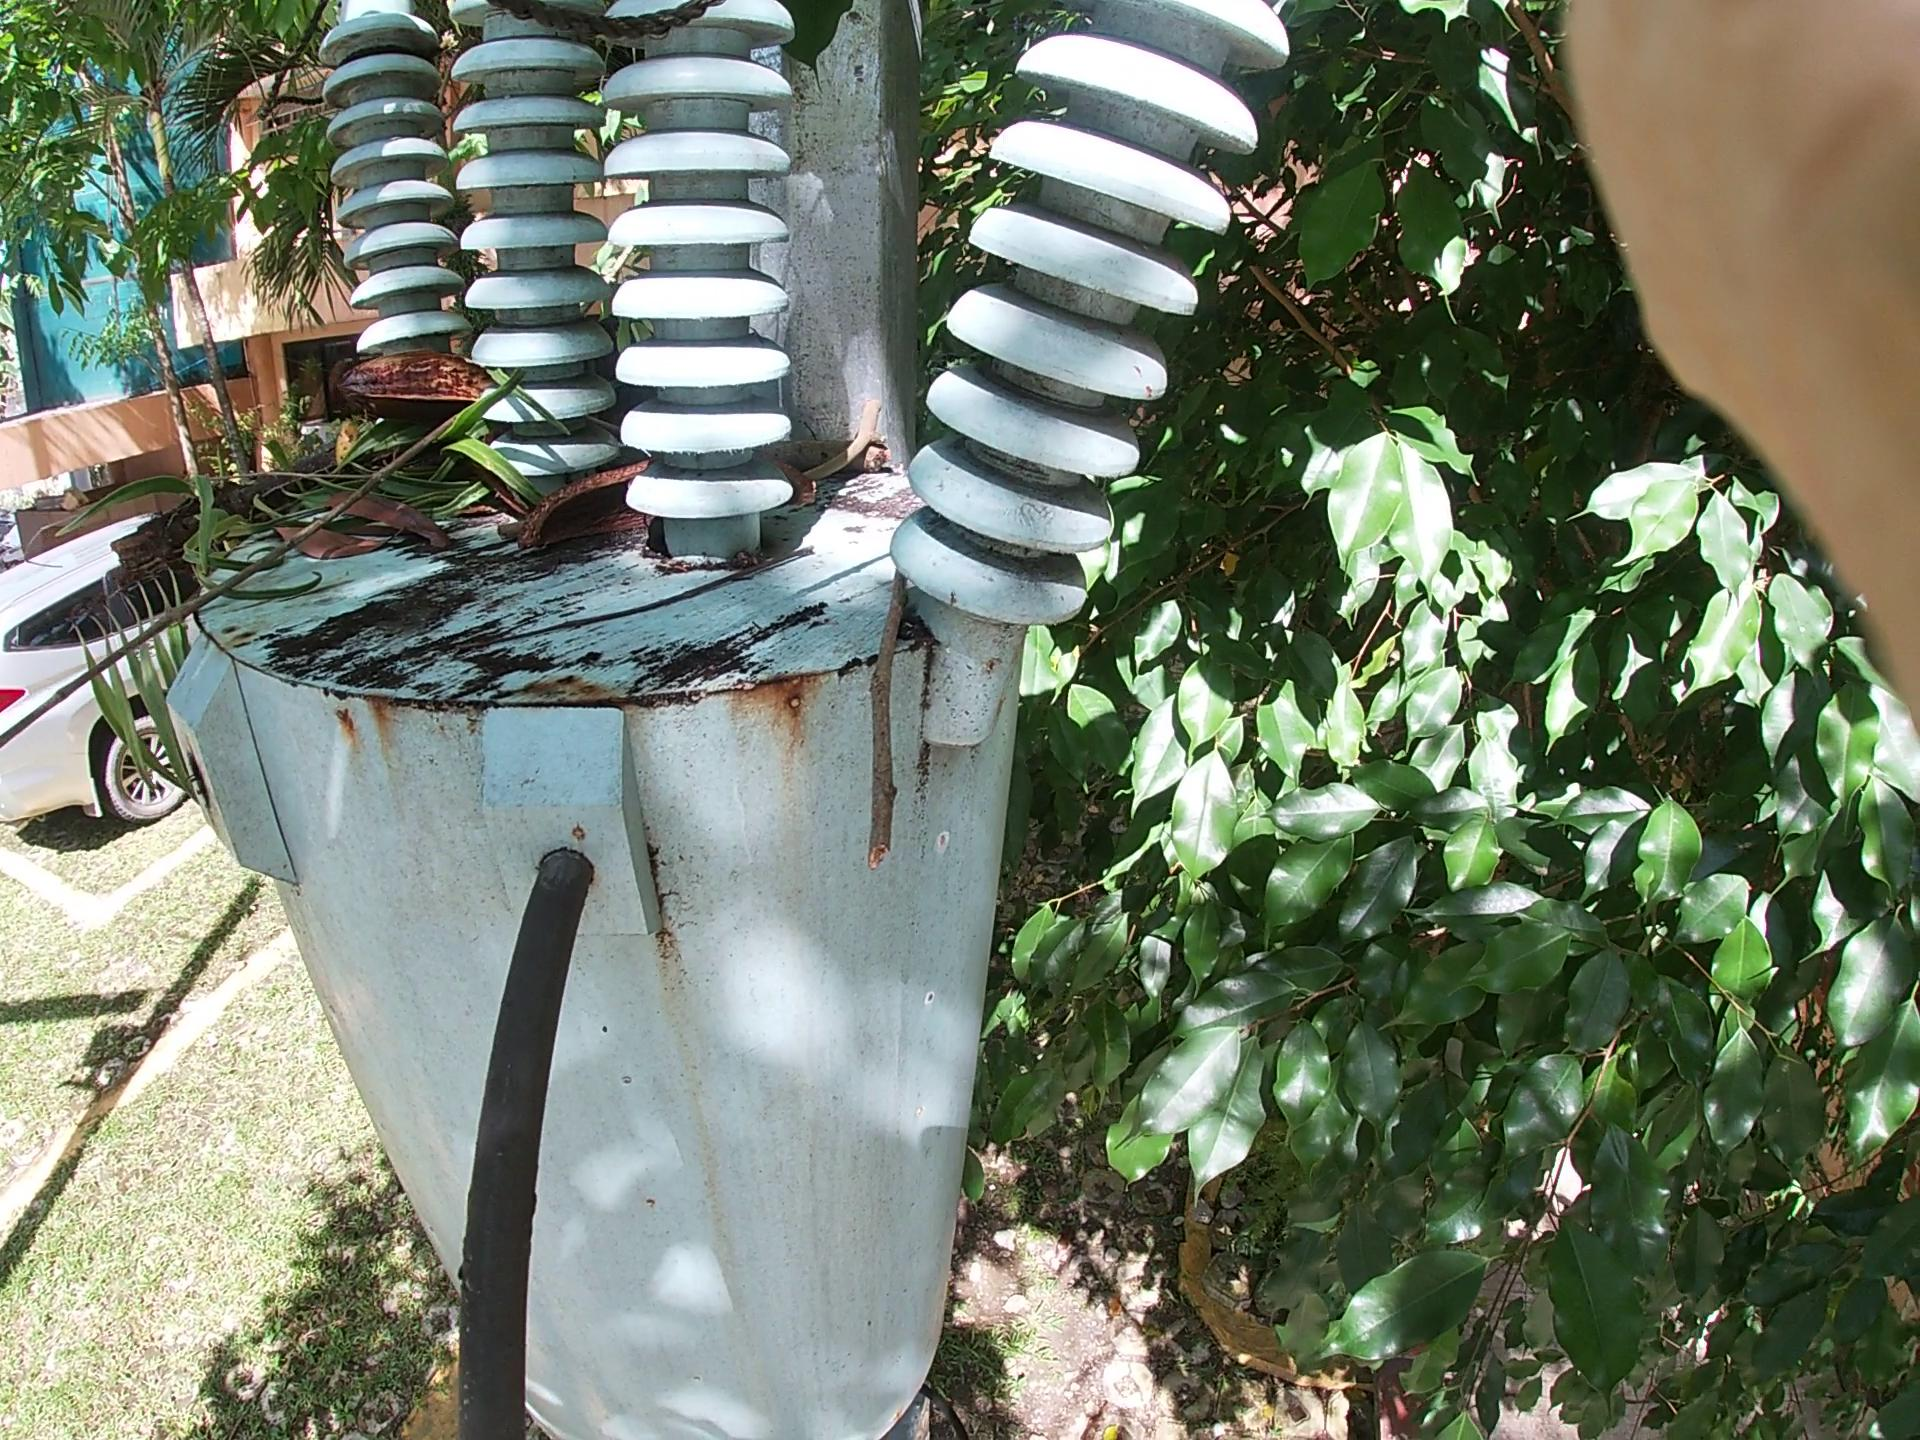branch with leaves: (132, 182, 621, 637)
mahogany fruit: (310, 324, 513, 476), (494, 427, 692, 579)
tree branch: (17, 306, 614, 764), (748, 461, 1010, 867), (281, 451, 485, 585), (745, 366, 900, 535)
